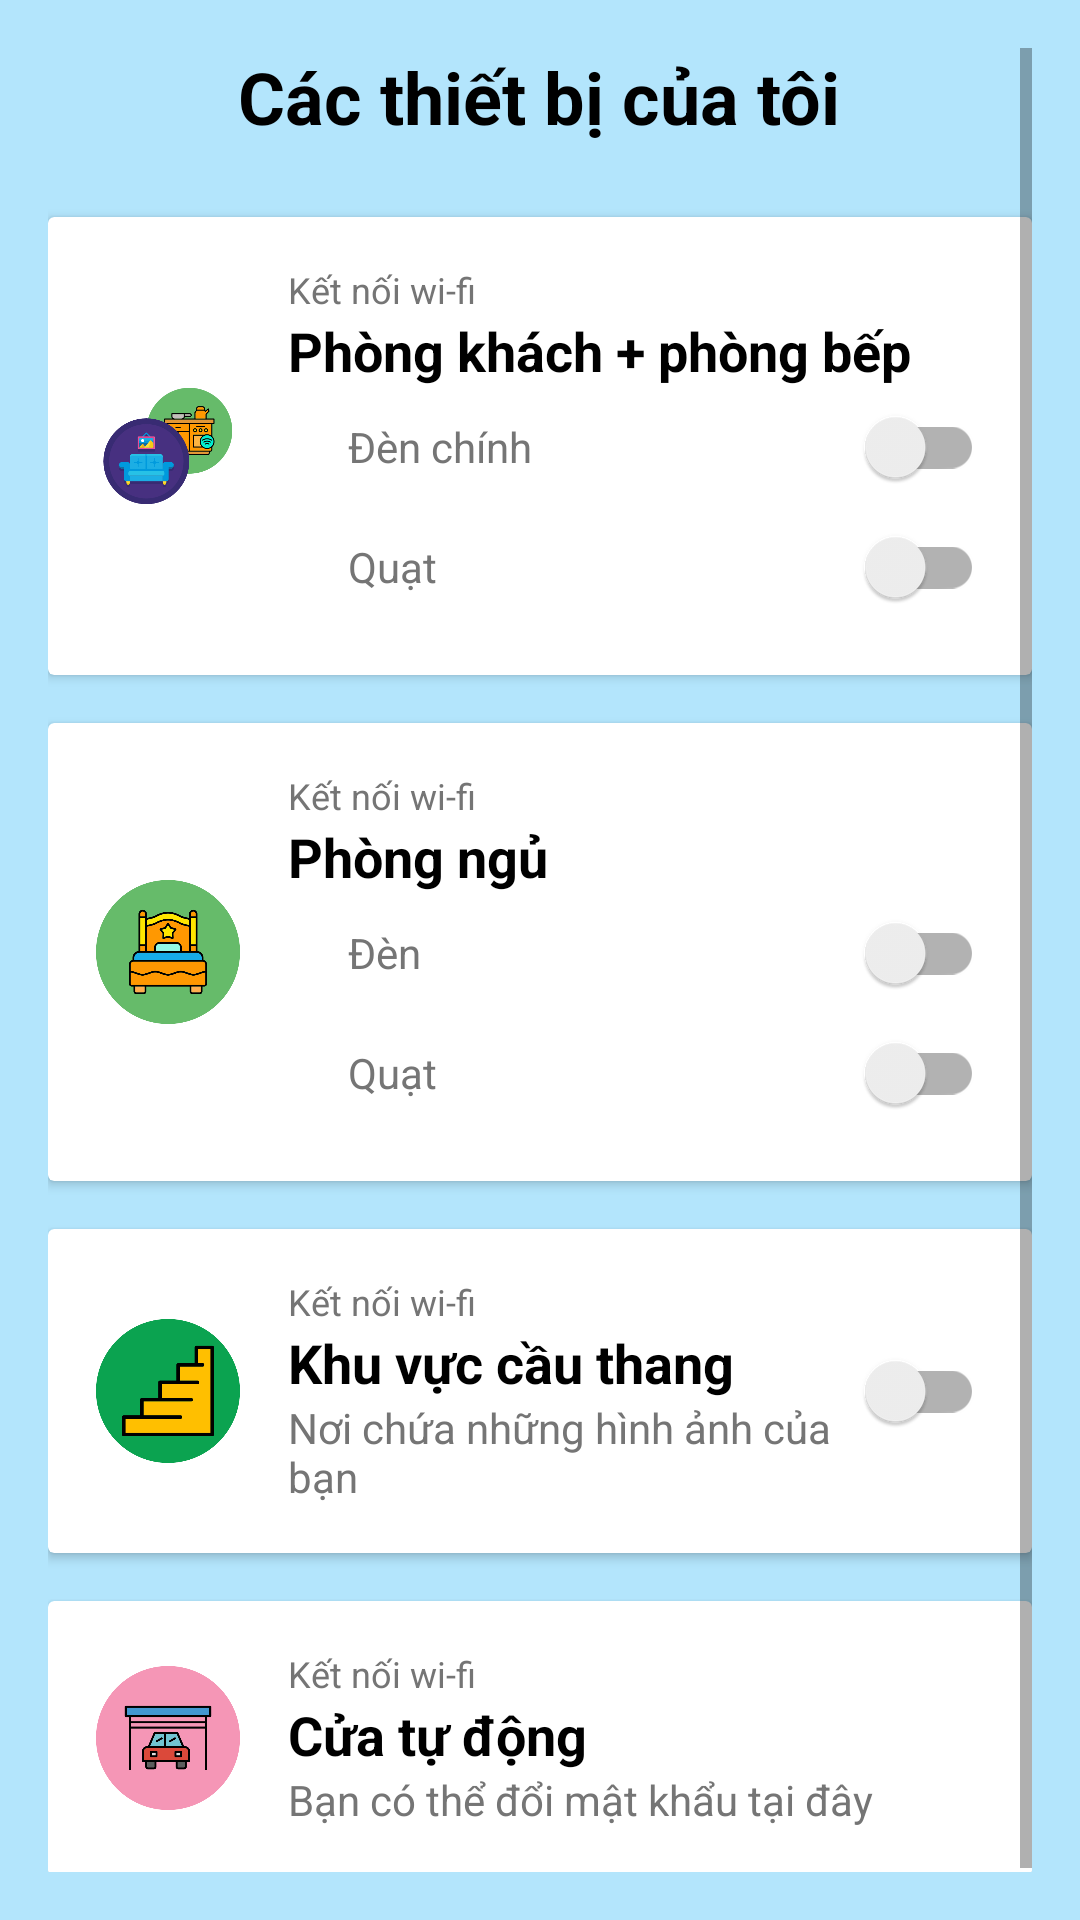

Named icons in this screenshot (1080*1920) and their bounding boxes, [x1,y1,x2,y2]:
bed: [96,880,240,1024]
garage: [96,1666,240,1810]
livingkit: [103,388,232,504]
stairs: [96,1319,240,1463]
